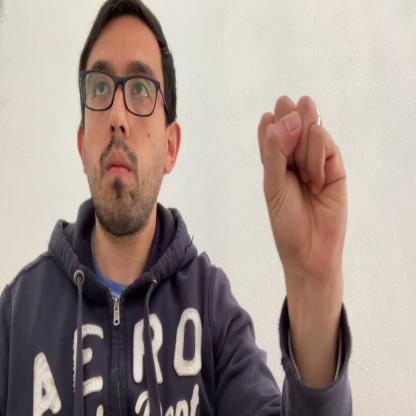S: (258, 92, 346, 282)
